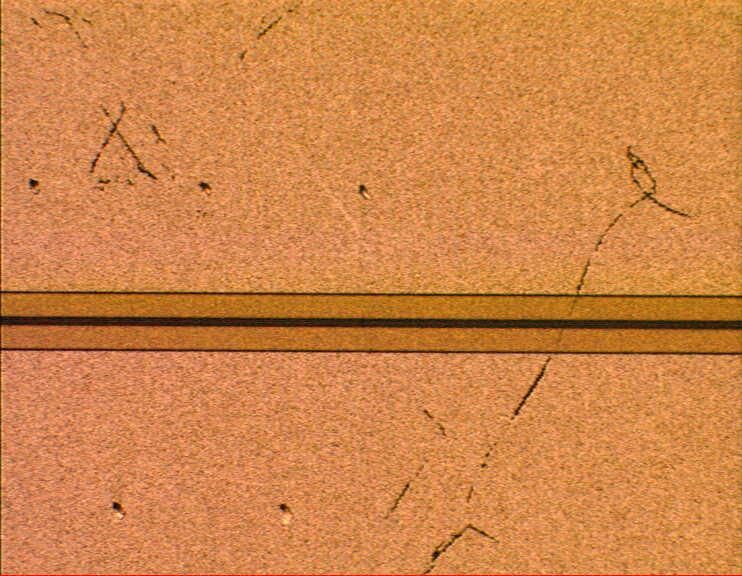SCRATCH: (378, 96, 700, 576), (25, 1, 479, 197)
